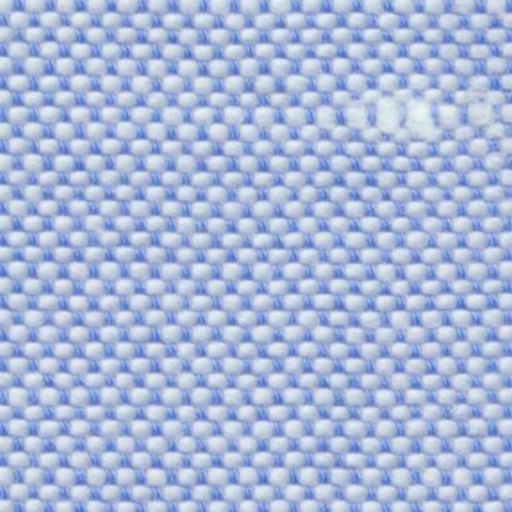DaiSha: (244, 95, 493, 143)
